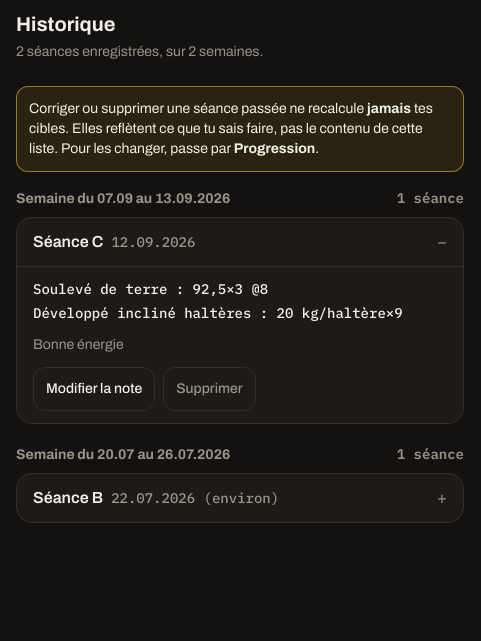
Test: historique › replie les séances plus anciennes
The image size is (481, 641).
Expected: the text "Développé couché : 70×4 @8" is not shown
Click the button "Séance B22.07.2026 (environ) +". click: x=240, y=498
box: x1=17 y1=474 x2=463 y2=522
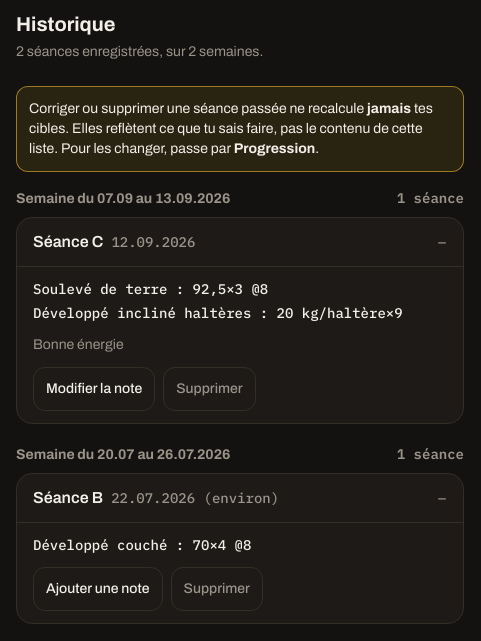
Result: the list item "Développé couché : 70×4 @8" is shown at x1=33 y1=536 x2=251 y2=554
